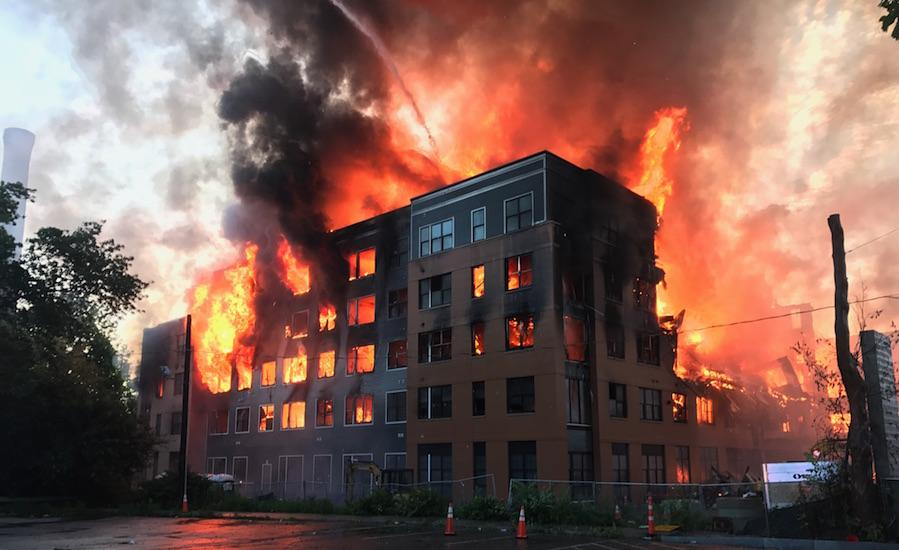Fire: (187, 89, 831, 486)
